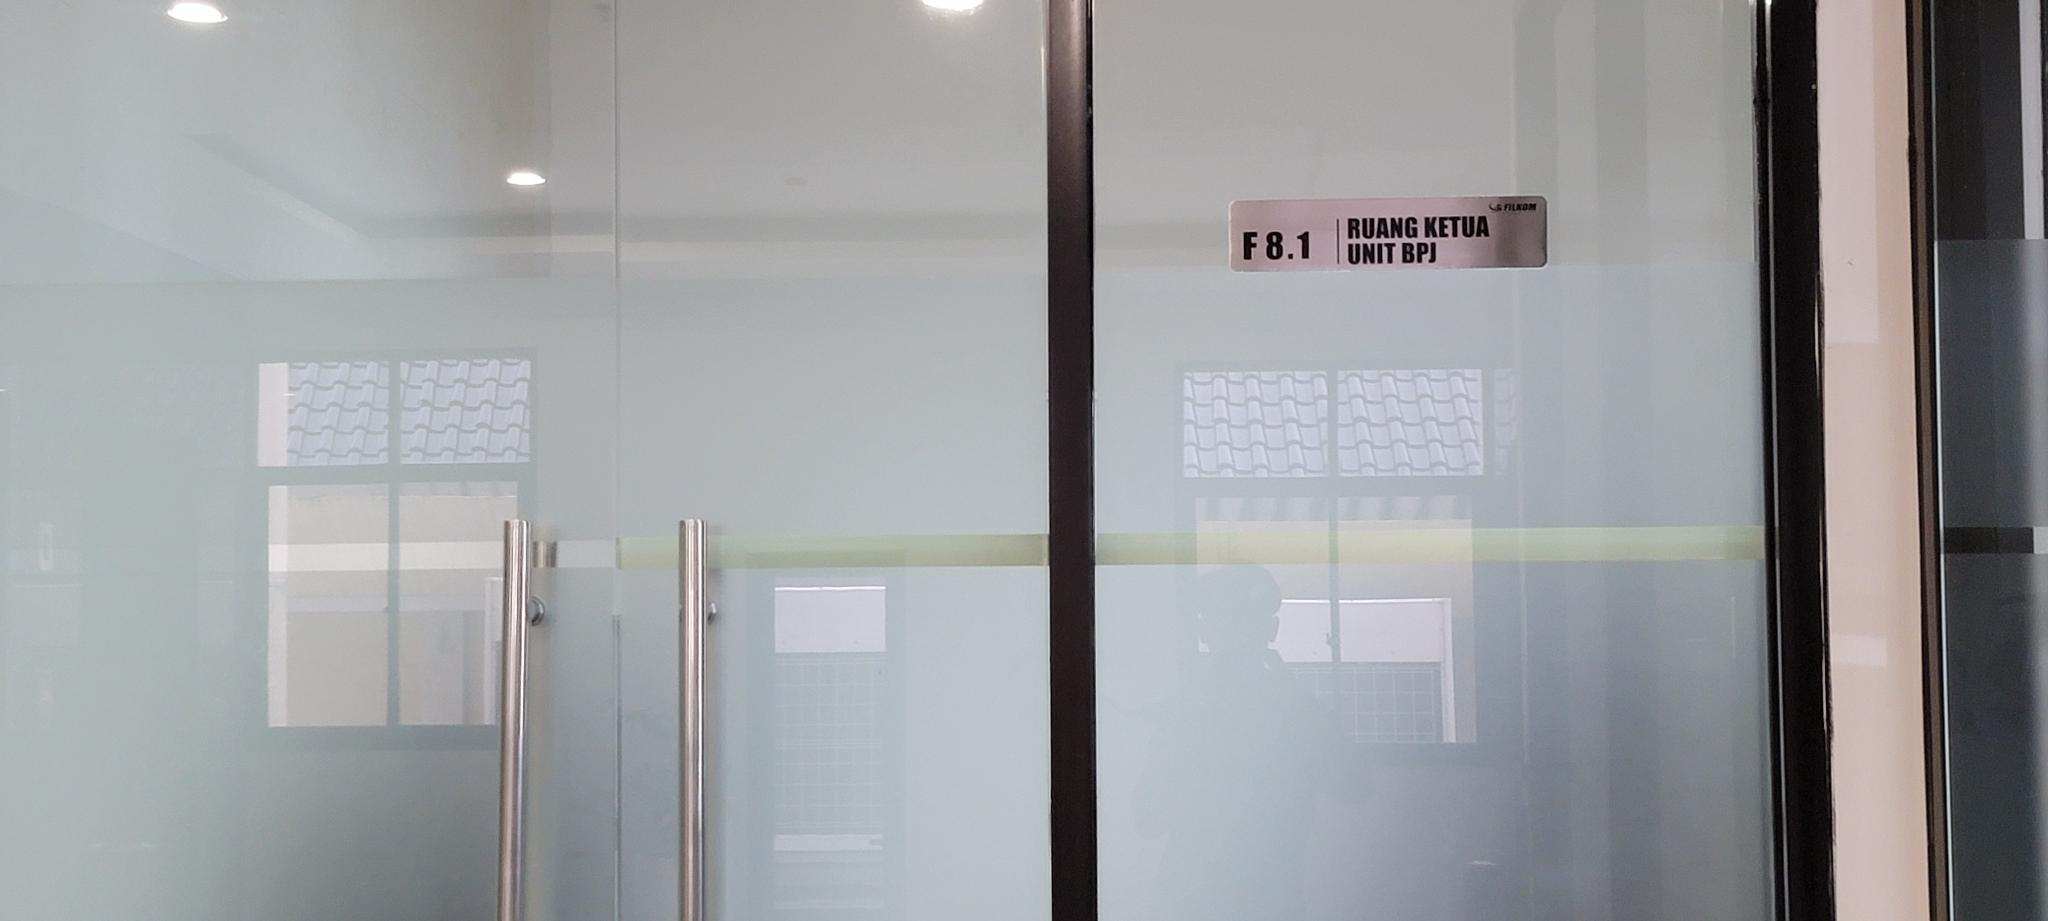plate: (1228, 195, 1548, 273)
